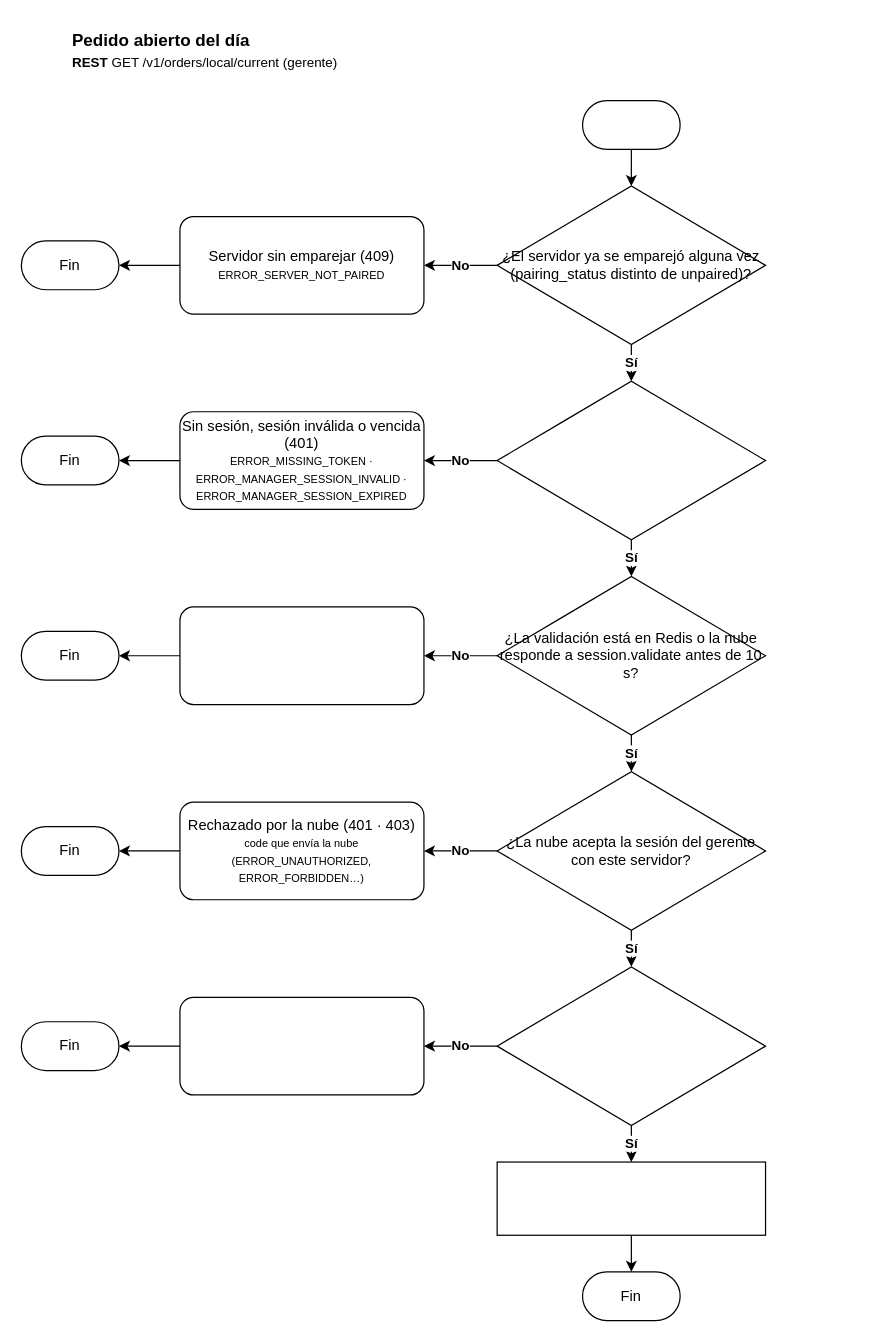
Image size: 872x1342. Some labels were removed from this diagram. Each missing label, with the centre of its shape:
"Inicio" belongs at (x=630, y=124).
"La nube no responde (503) ERROR_CLOUD_UNAVAILABLE · ERROR_SERVER_UNLINKED" belongs at (x=301, y=655).
"No se encontró el pedido (404) ERROR_ORDER_NOT_FOUND" belongs at (x=301, y=1045).
"Responder 200 con el mensaje CURRENT_RETRIEVED" belongs at (x=631, y=1198).
"¿Existe el pedido?" belongs at (x=631, y=1045).
"¿Trae una sesión de gerente válida (Bearer mss_..., sin 30 min de inactividad)?" belongs at (x=631, y=460).
